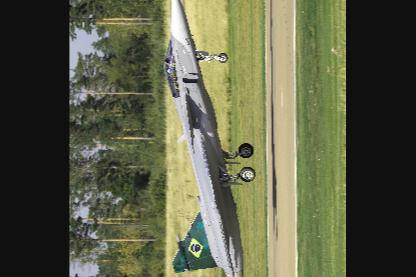JAS39: (164, 0, 256, 275)
